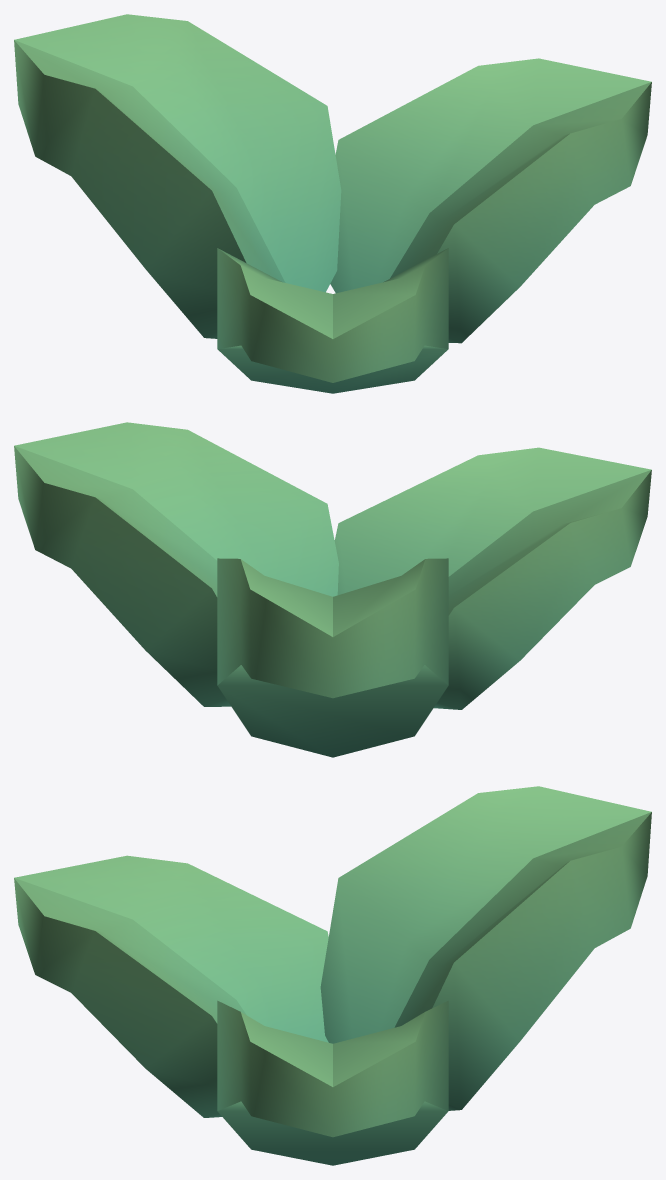
File: plant.glb
3 renders of one model, top to bottom at view 1: azimuth 30°, elevation 25°; view 2: azimuth 150°, elevation 25°; view 3: azimuth 270°, elevation 25°, orthographic.
Parts seen in each view (by area): view 1: plant; view 2: plant; view 3: plant.
Part boxes in pixels (left/top/right/bottom): plant: left=14, top=14, right=651, bottom=393; plant: left=14, top=422, right=651, bottom=757; plant: left=14, top=786, right=651, bottom=1165.
Size of the model in its own units: 0.3964 by 0.1919 by 0.4305.
1 material, 1 textured.
